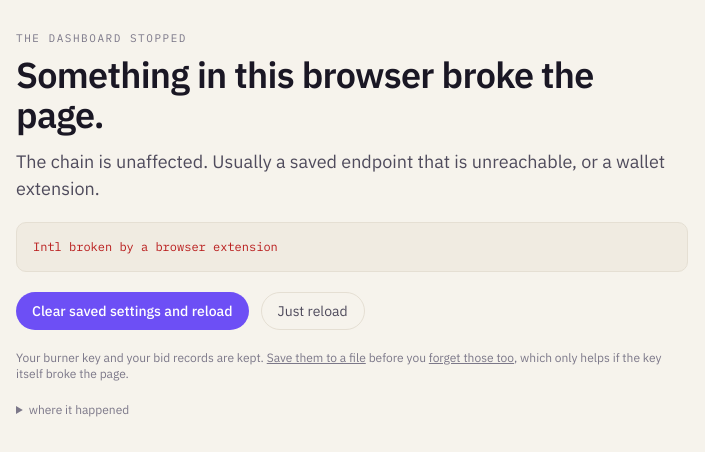
it: the crash screen › offers to save the key and the openings before they can be forgotten
Step 1. Click the button "Save them to a file" → (316, 358), box left=267, top=350, right=366, bottom=366
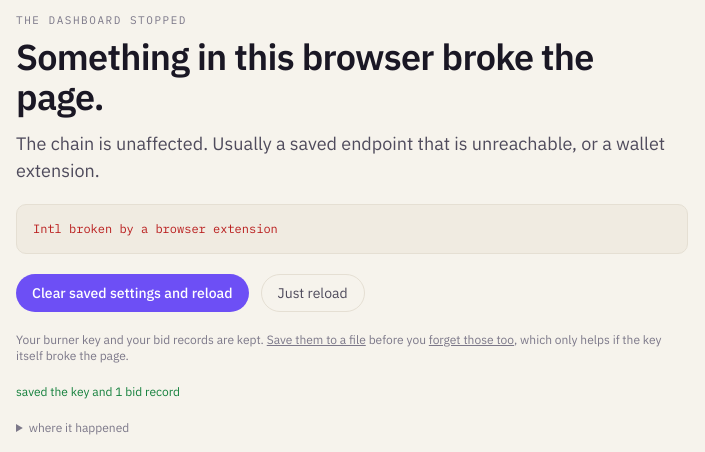
Expected: the text "saved the key and 1 bid record" is shown, left=16, top=384, right=180, bottom=399
